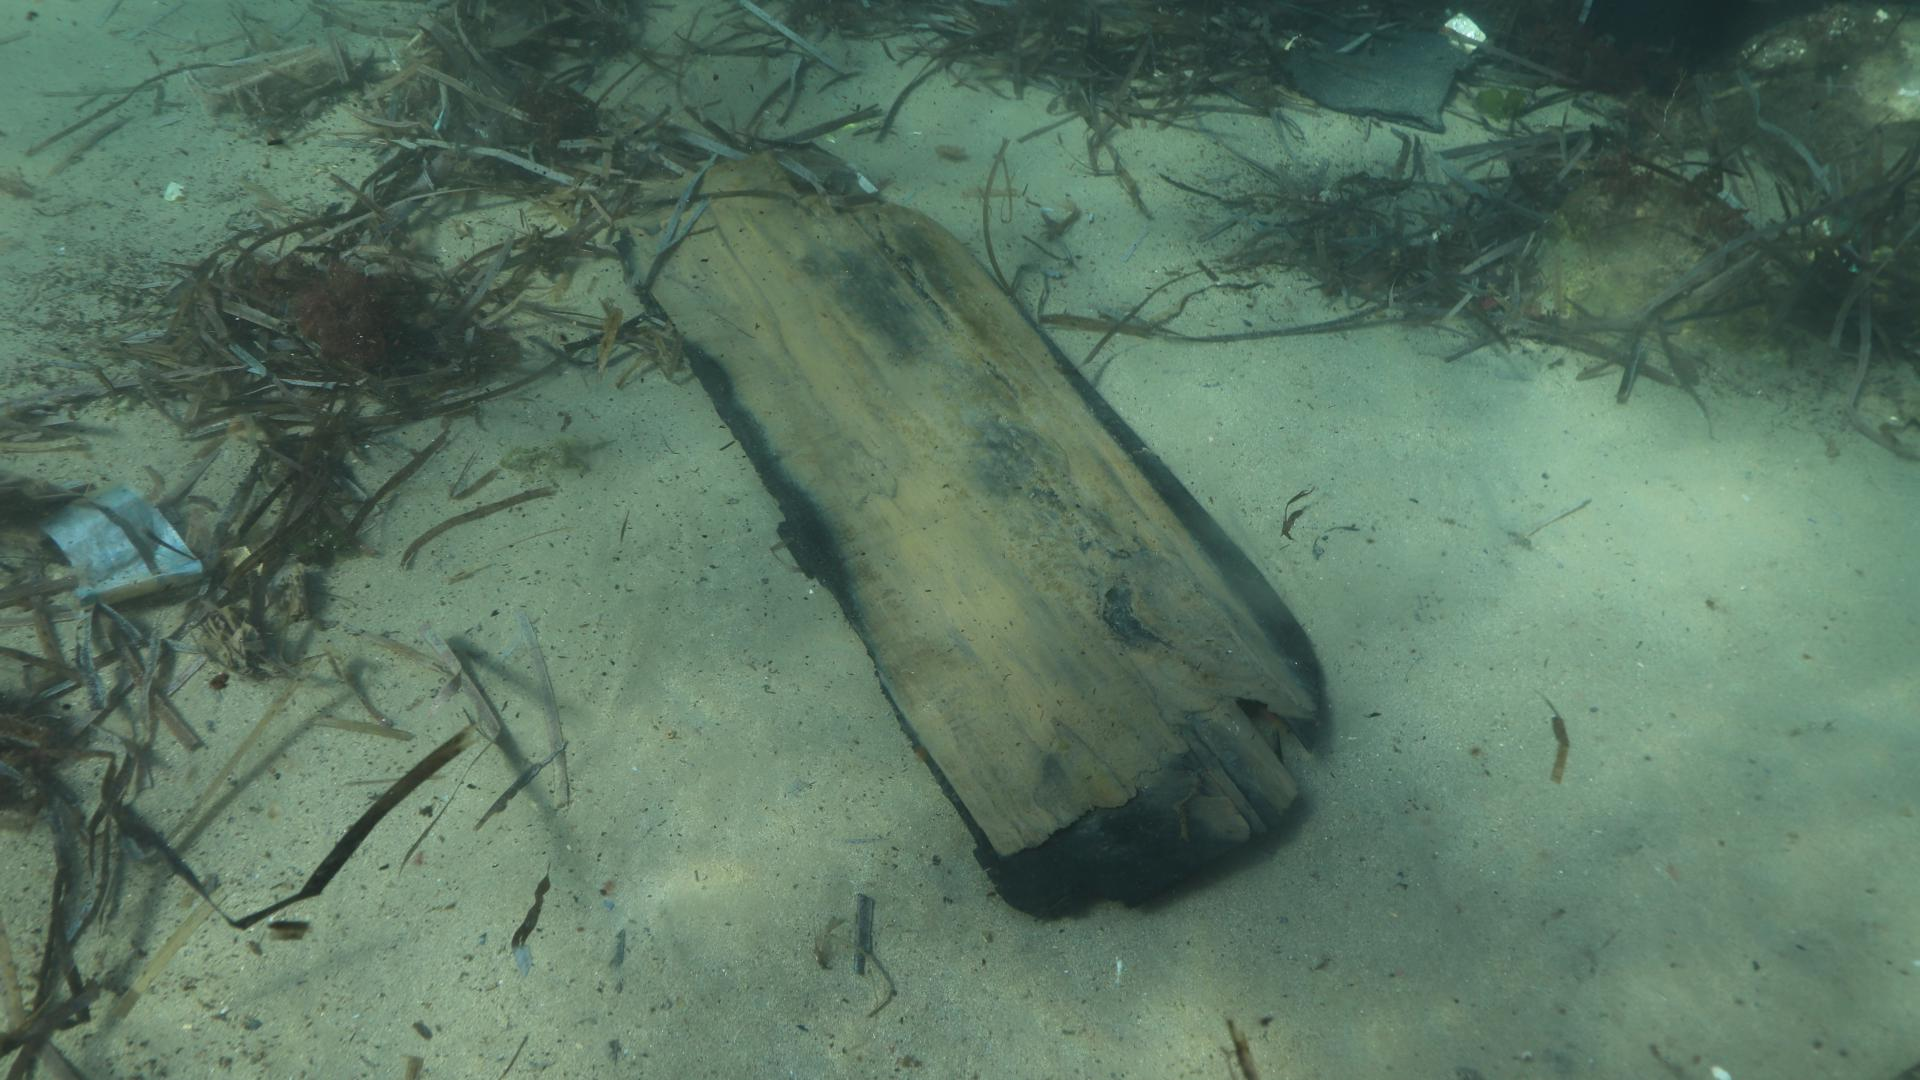wood: (618, 152, 1321, 909)
